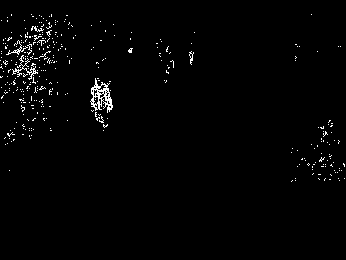person: (89, 76, 114, 131)
